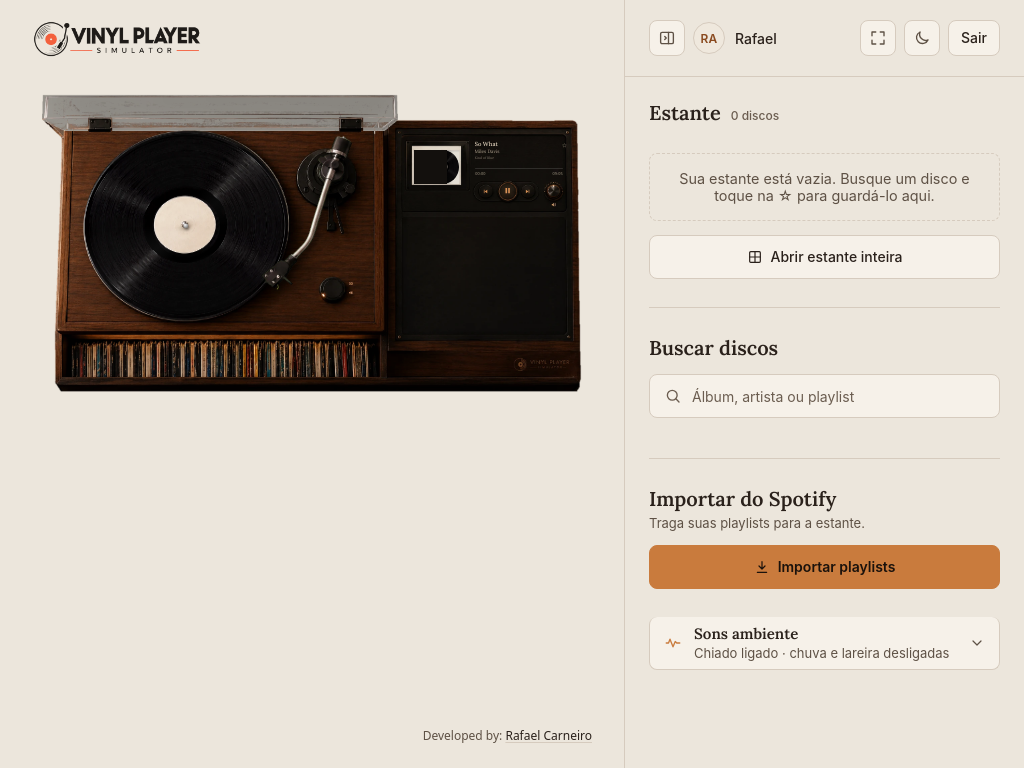
Test: App › T33: playlist tocada direto pelo Spotify é guardada com nome e dono
The width and height of the screenshot is (1024, 768).
What coordinates should you click on to do the following:
click the button named "Guardar Playlist na estante"
I would click on:
 (564, 145)
Its box is [560,141,568,150].
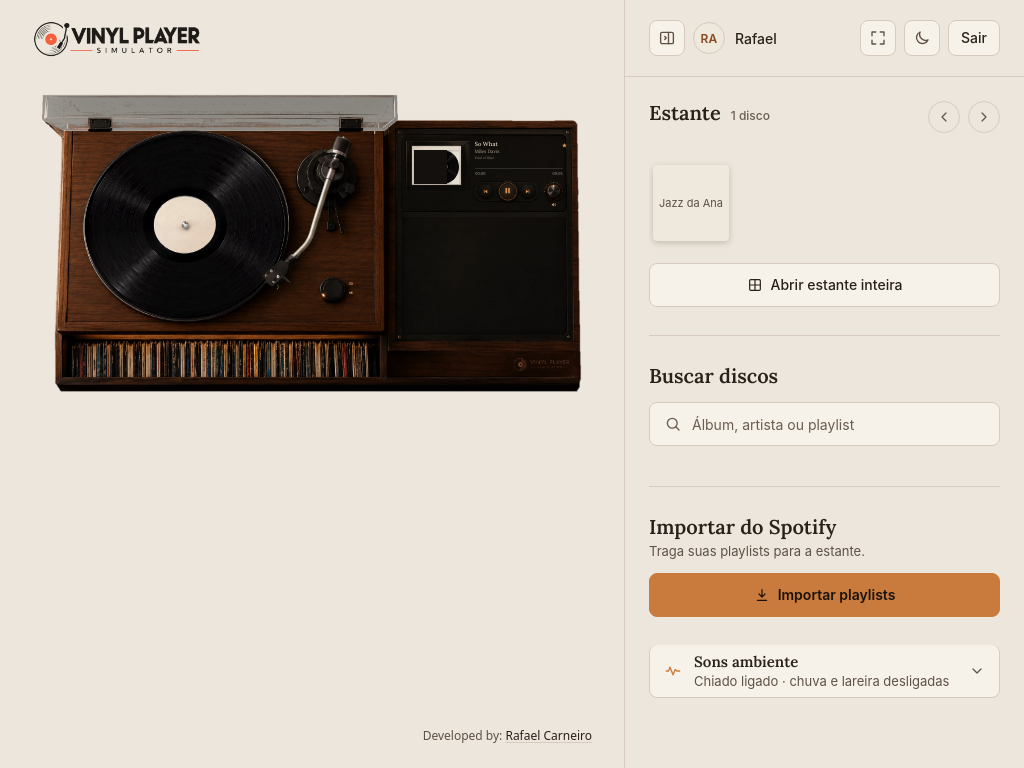
Now the text "1 disco" is shown, box [731,108,770,123]
